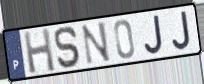0: (112, 18, 136, 60)
H: (22, 26, 57, 75)
J: (143, 14, 165, 56), (171, 10, 193, 52)
N: (80, 20, 113, 67)
S: (53, 25, 83, 70)
